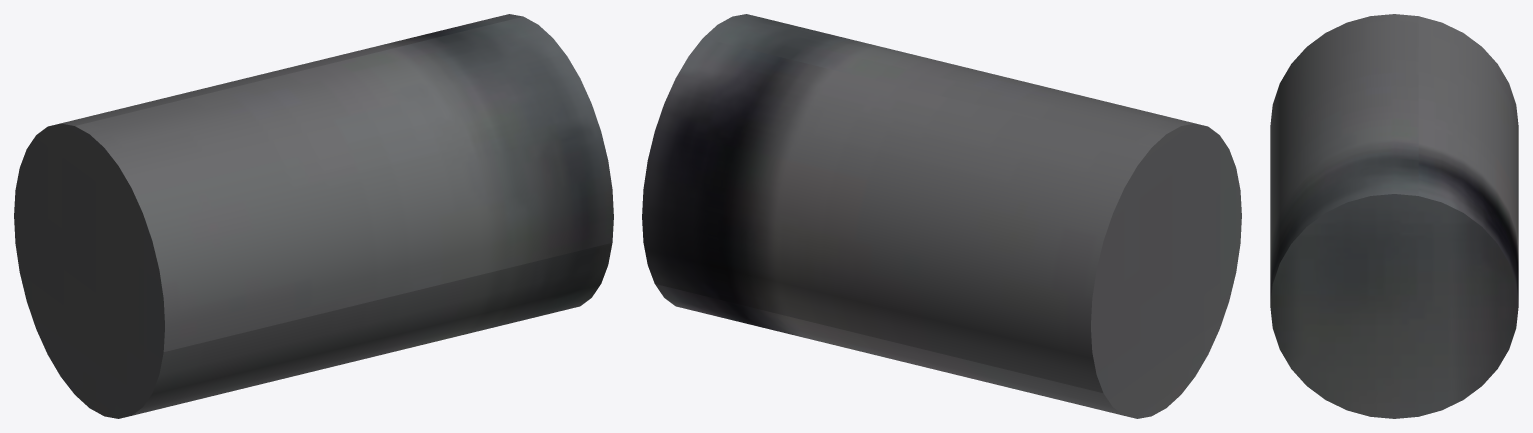
Rendered from wheel_0__valve_stem.glb.
The picture shows the model from 3 angles, left to right: view 1: azimuth 30°, elevation 25°; view 2: azimuth 150°, elevation 25°; view 3: azimuth 270°, elevation 25°; orthographic projection. The views are drawn at different scales.
Parts seen in each view (by area): view 1: world; view 2: world; view 3: world.
Part boxes in pixels (x1,y1,x2,y2): world: (14,14,613,418); world: (642,14,1241,418); world: (1270,14,1518,418).
Bounding box in the file's own units: 0.012 × 0.007 × 0.007.
Materials: 1 (1 with a texture image).
